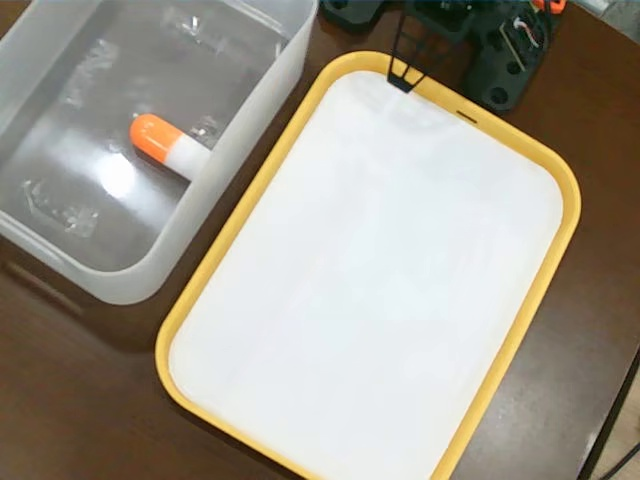pill: (128, 111, 216, 187)
